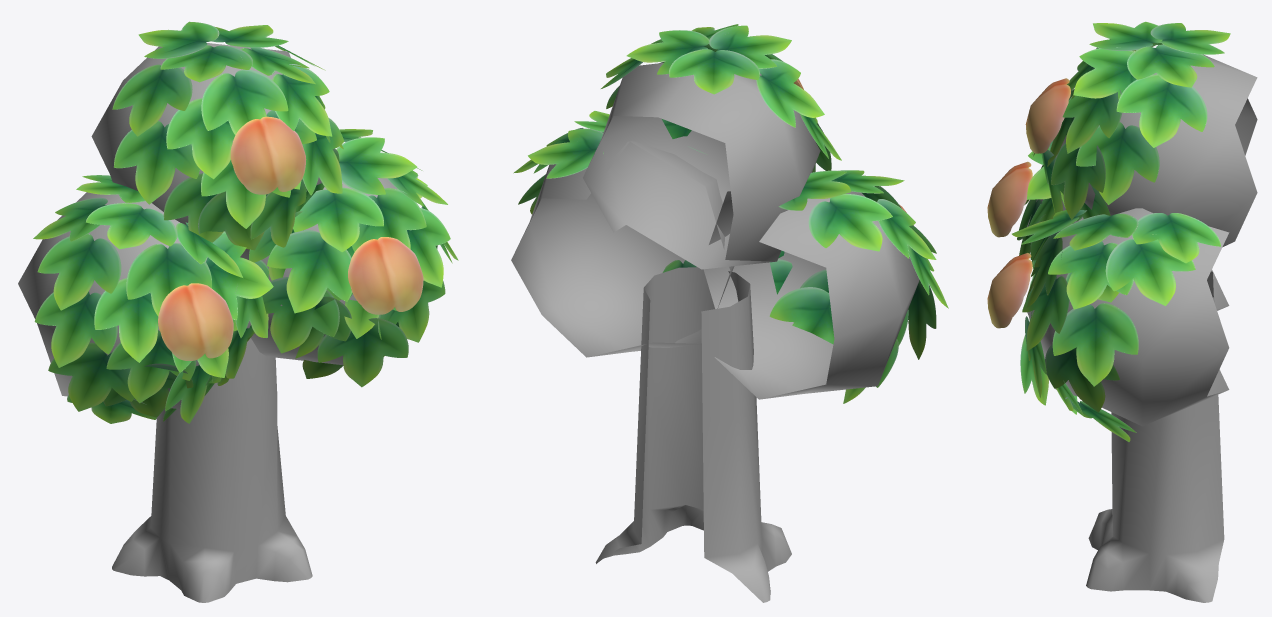
File: SM_PeachTree.fbx
The picture shows the model from 3 angles, left to right: view 1: azimuth 30°, elevation 25°; view 2: azimuth 150°, elevation 25°; view 3: azimuth 270°, elevation 25°; orthographic projection.
Parts seen in each view (by area): view 1: SM_PeachTree; view 2: SM_PeachTree; view 3: SM_PeachTree.
Part boxes in pixels (x1,y1,x2,y2): SM_PeachTree: [18, 21, 458, 602]; SM_PeachTree: [511, 24, 948, 602]; SM_PeachTree: [987, 21, 1257, 602].
Size of the model in its own units: 1745 by 2043 by 955.
